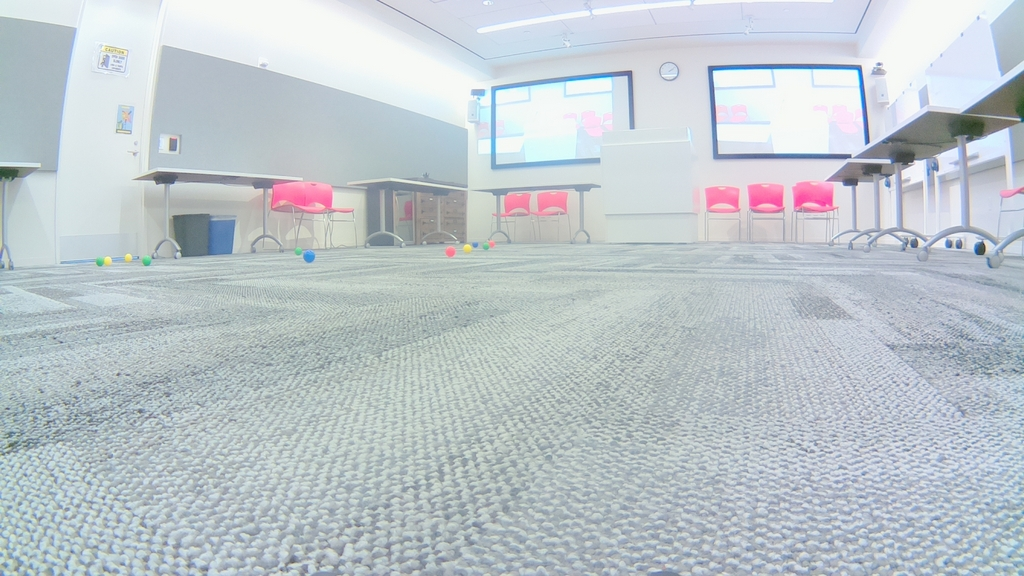ball: (463, 243, 474, 253)
